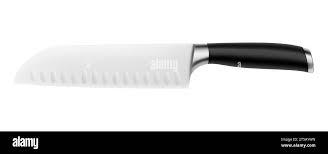Knife: (13, 41, 314, 88)
